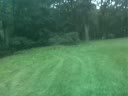window: (0, 1, 50, 96), (56, 69, 83, 96), (53, 32, 76, 48), (108, 77, 126, 94), (103, 50, 110, 55)
